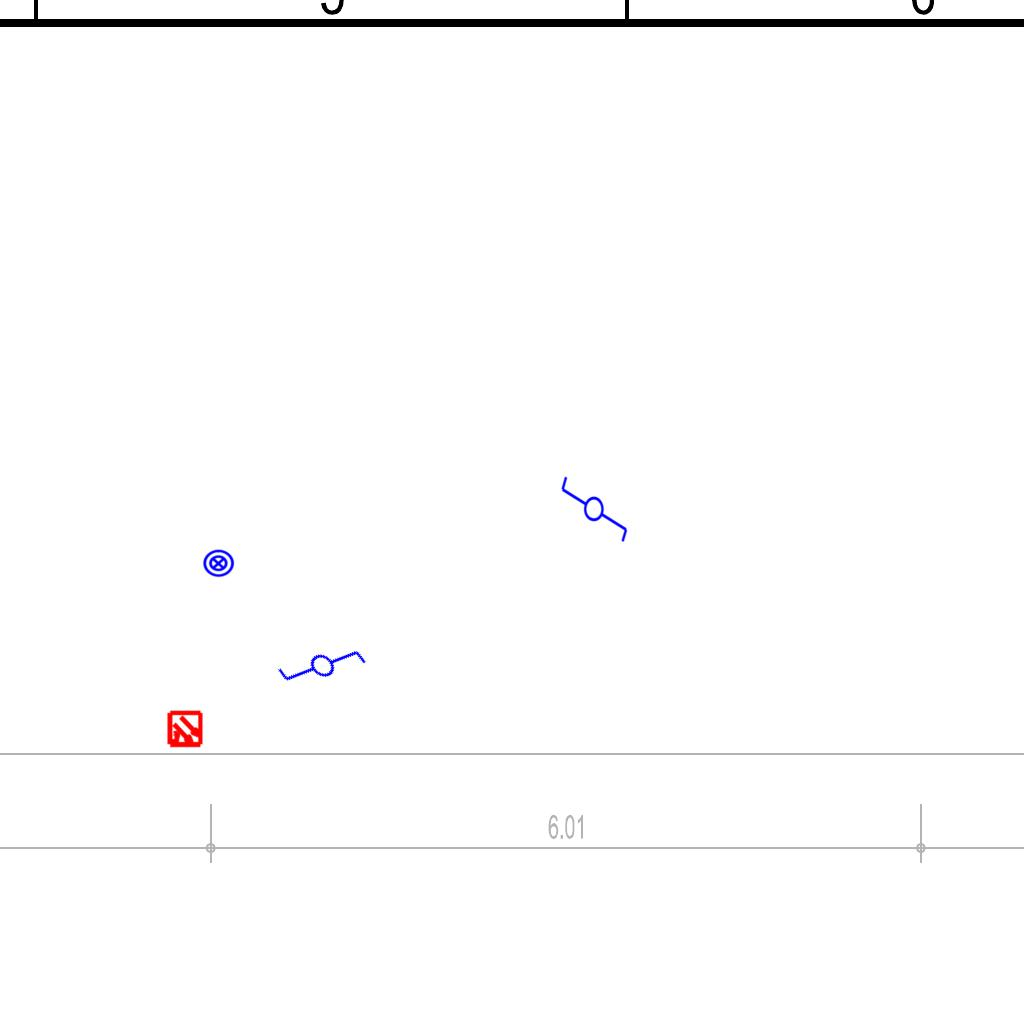OT_Multisensormelder_(Kombination_RMO_WMD): (157, 702, 213, 758)
Taster_beleuchtet: (202, 547, 235, 580)
Wechselschalter: (272, 616, 378, 722), (559, 466, 631, 544)
